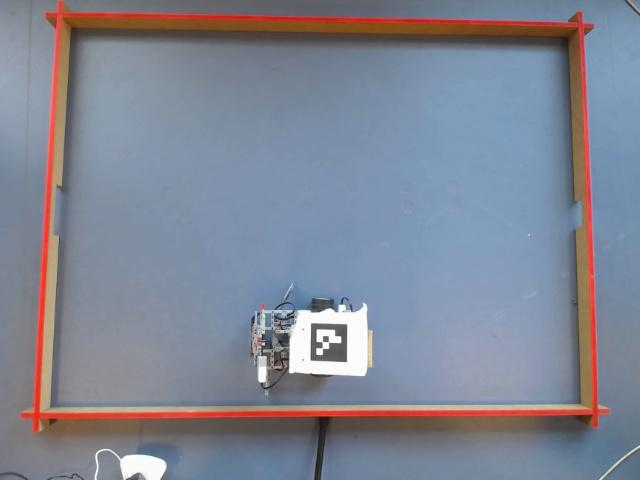ev3: (257, 307, 374, 387)
